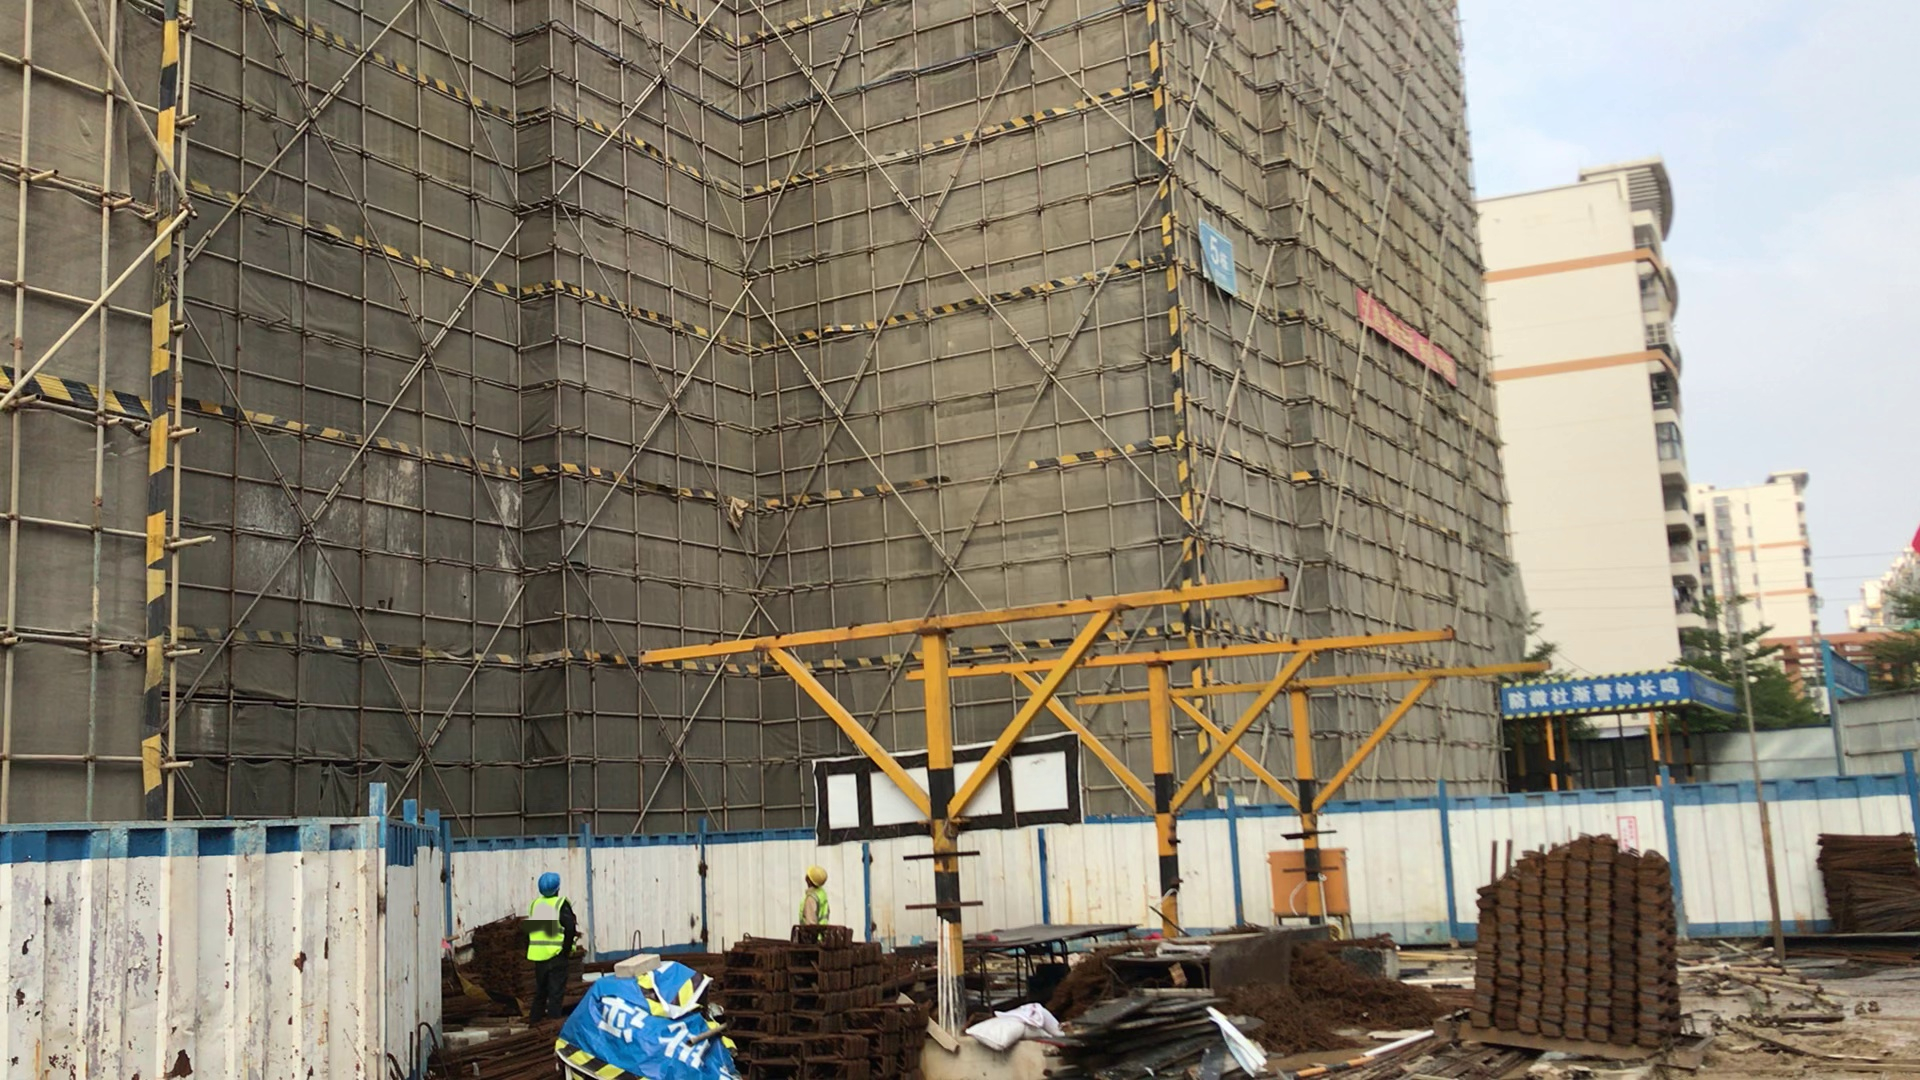ebox: (1322, 839, 1359, 935), (1270, 843, 1306, 926)
helmet: (538, 871, 561, 896), (807, 867, 828, 889)
person: (524, 869, 581, 1017), (798, 866, 832, 925)
rebar: (433, 1023, 557, 1080)
slogan: (1355, 287, 1462, 385), (1507, 678, 1693, 705), (1834, 649, 1874, 708), (1695, 679, 1747, 716), (1207, 230, 1236, 290)
vest: (526, 897, 568, 962), (798, 892, 830, 923)
